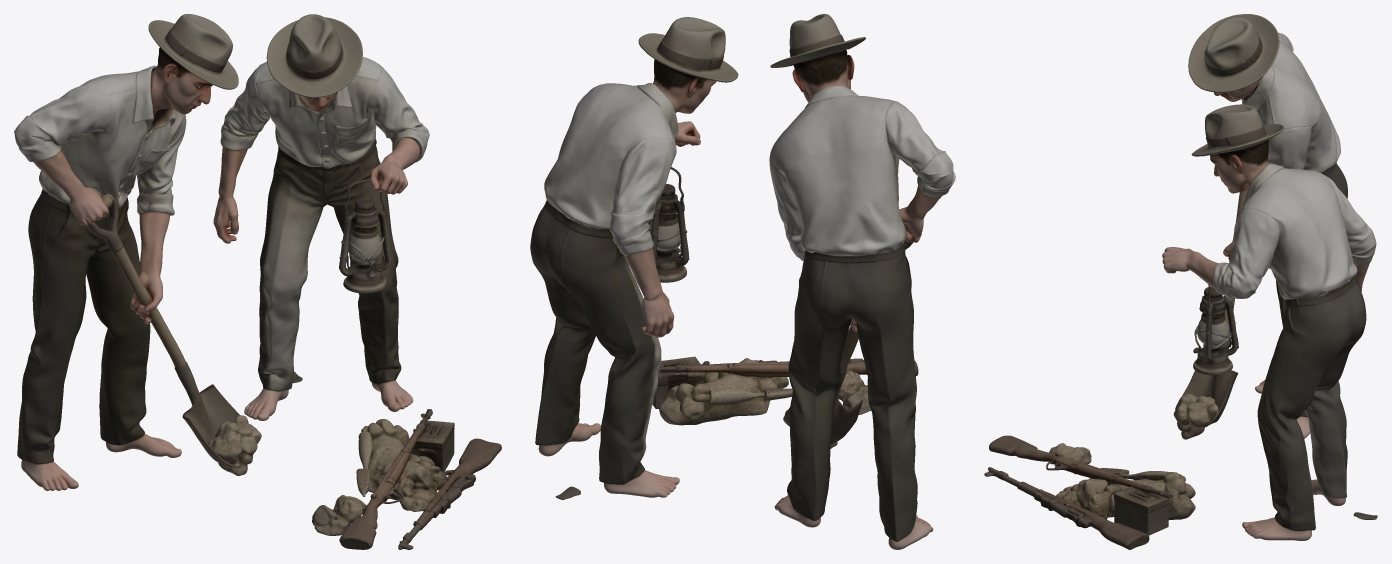
File: 62-las-armas-de-los-vencidos-optimized.glb
The picture shows the model from 3 angles, left to right: view 1: azimuth 30°, elevation 25°; view 2: azimuth 150°, elevation 25°; view 3: azimuth 270°, elevation 25°; orthographic projection. The views are drawn at different scales.
Parts seen in each view (by area): view 1: tripo_node_a7d28bf8-a259-4ae8-8bbe-3ab7a156b612; view 2: tripo_node_a7d28bf8-a259-4ae8-8bbe-3ab7a156b612; view 3: tripo_node_a7d28bf8-a259-4ae8-8bbe-3ab7a156b612.
Part boxes in pixels (bbox=[...]): tripo_node_a7d28bf8-a259-4ae8-8bbe-3ab7a156b612: bbox=[14, 14, 501, 549]; tripo_node_a7d28bf8-a259-4ae8-8bbe-3ab7a156b612: bbox=[530, 14, 955, 549]; tripo_node_a7d28bf8-a259-4ae8-8bbe-3ab7a156b612: bbox=[984, 14, 1377, 549].
Bounding box in the file's own units: 0.9249 × 1 × 0.8454.
Materials: 1 (1 with a texture image).
